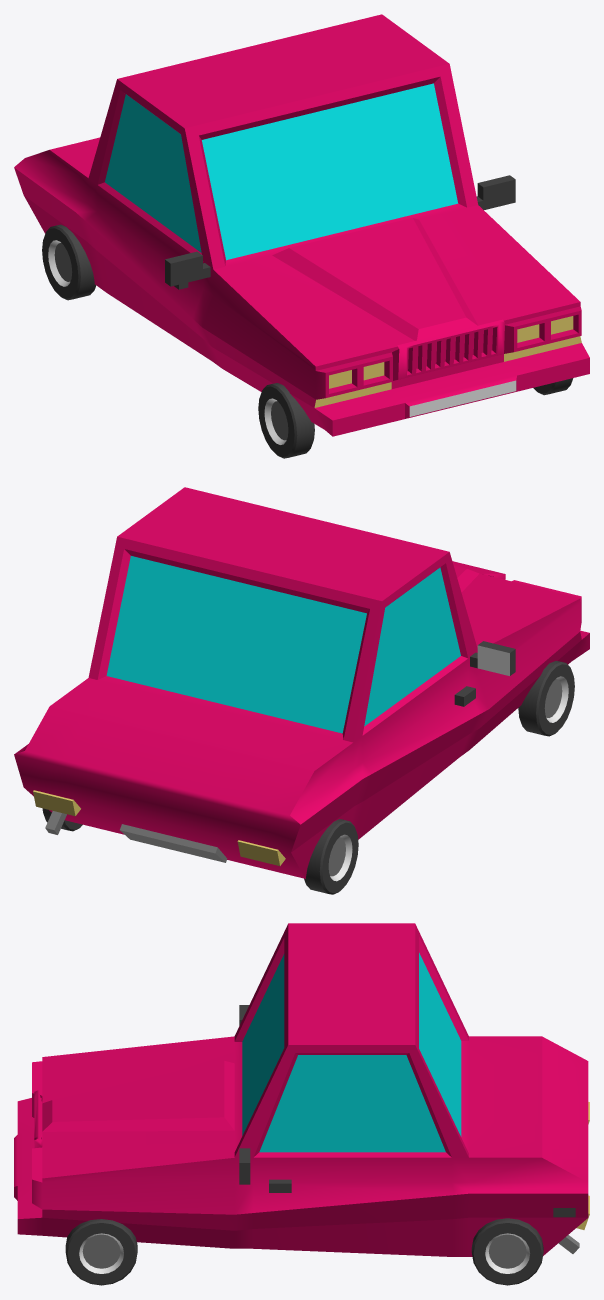
Rendered from otherCar.fbx.
3 views of the same model, one above another, from view 1: azimuth 30°, elevation 25°; view 2: azimuth 150°, elevation 25°; view 3: azimuth 270°, elevation 25° (orthographic). The views are drawn at different scales.
Parts seen in each view (by area): view 1: polySurface223; view 2: polySurface223; view 3: polySurface223.
Part boxes in pixels (x1=…): polySurface223: x1=14, y1=14, x2=589, y2=458; polySurface223: x1=14, y1=487, x2=589, y2=894; polySurface223: x1=14, y1=923, x2=589, y2=1285.
Size of the model in its own units: 36.93 by 25.91 by 56.86.
